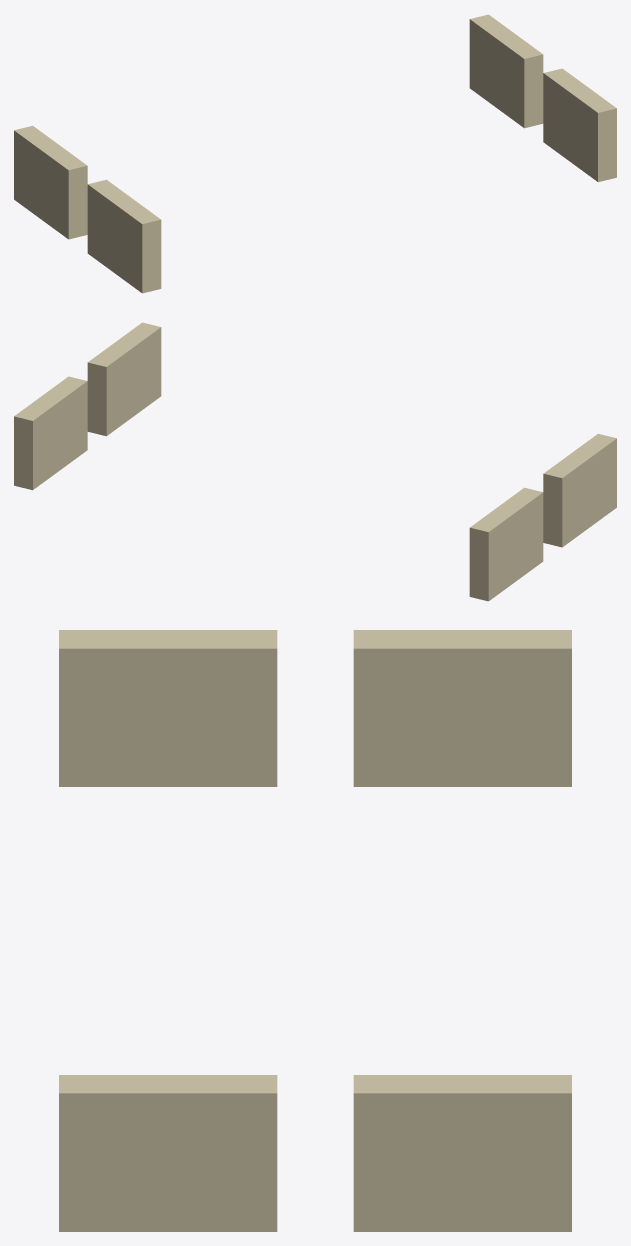
File: hangar2_chargers.obj
3 views of the same model, one above another, from view 1: azimuth 30°, elevation 25°; view 2: azimuth 150°, elevation 25°; view 3: azimuth 270°, elevation 25° (orthographic). The views are drawn at different scales.
Parts seen in each view (by area): view 1: hangar2_chargers; view 2: hangar2_chargers; view 3: hangar2_chargers.
Boxes of the visible parts, bbox=[...] form: hangar2_chargers: bbox=[14, 14, 616, 293]; hangar2_chargers: bbox=[14, 322, 616, 601]; hangar2_chargers: bbox=[59, 630, 571, 1231].
Bounding box in the file's own units: 10.04 × 1.4 × 4.7.
